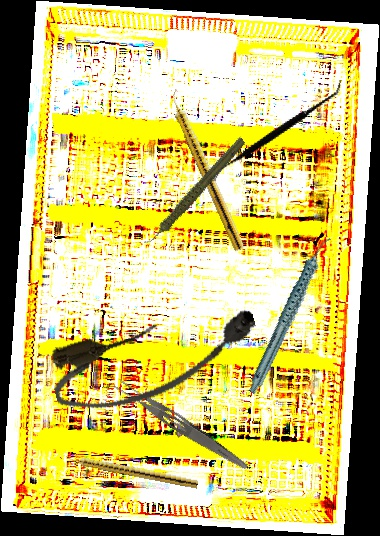Cannula: (43, 295, 268, 424)
Dressing Forceps: (111, 375, 253, 474)
Handpiece: (219, 234, 362, 396), (124, 135, 263, 247), (164, 88, 249, 252), (65, 452, 199, 489)
Spatula Surgical: (211, 48, 344, 213)
